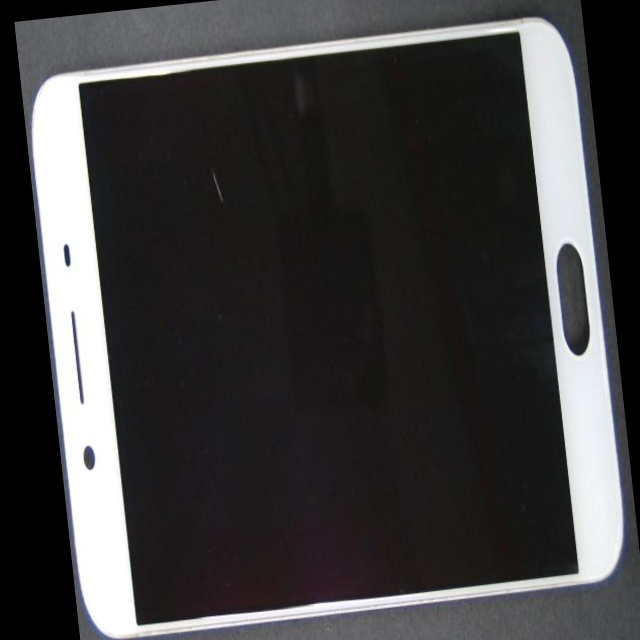scratch: (140, 114, 330, 276)
